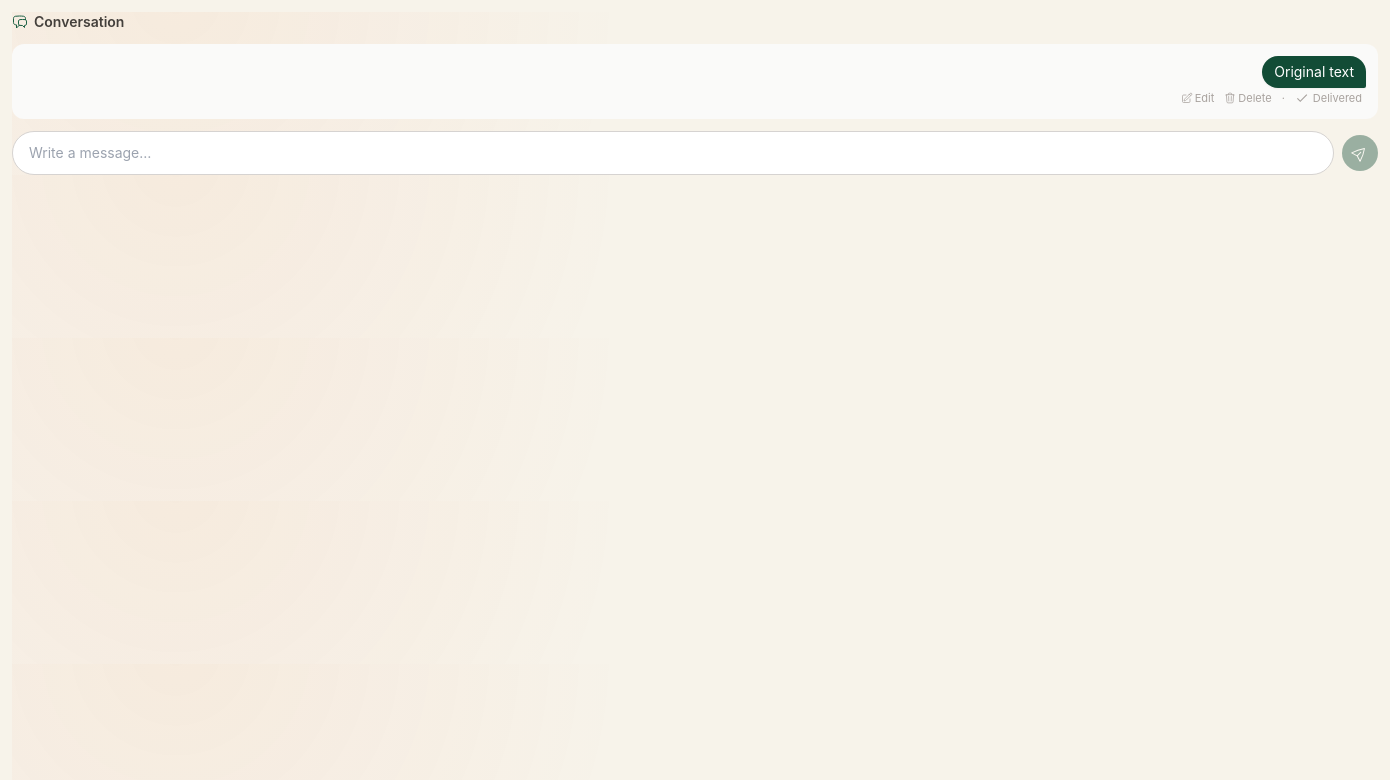
Scenario: BookingMessageThread › edits an own message inline and shows an "(edited)" marker afterward
Expected: the text "Original text" is shown, x1=1274 y1=62 x2=1354 y2=82
Click the button "Edit" at {"x": 1198, "y": 98}, box x1=1181 y1=90 x2=1214 y2=106
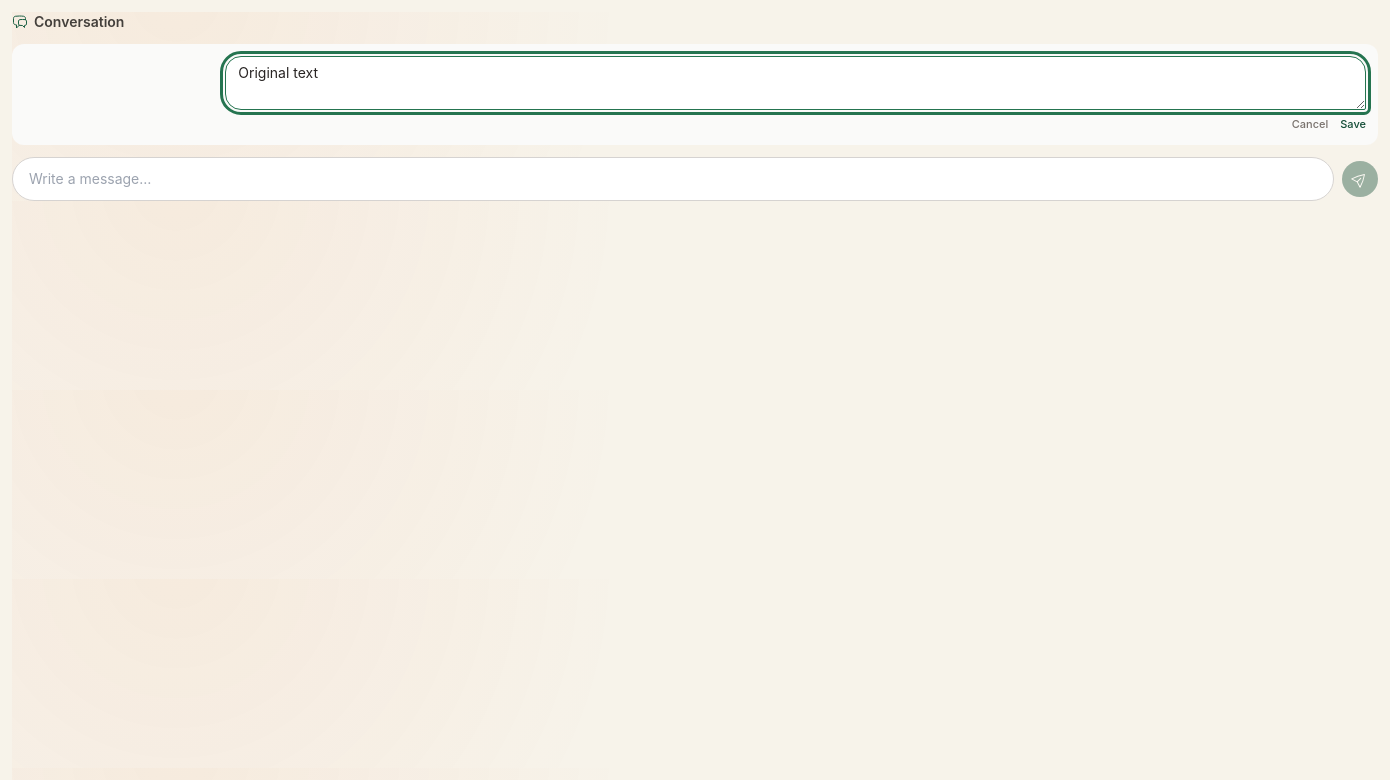
Replace the text in the text box showing "Original text" with "Corrected text" at {"x": 796, "y": 83}, box x1=225 y1=56 x2=1366 y2=110
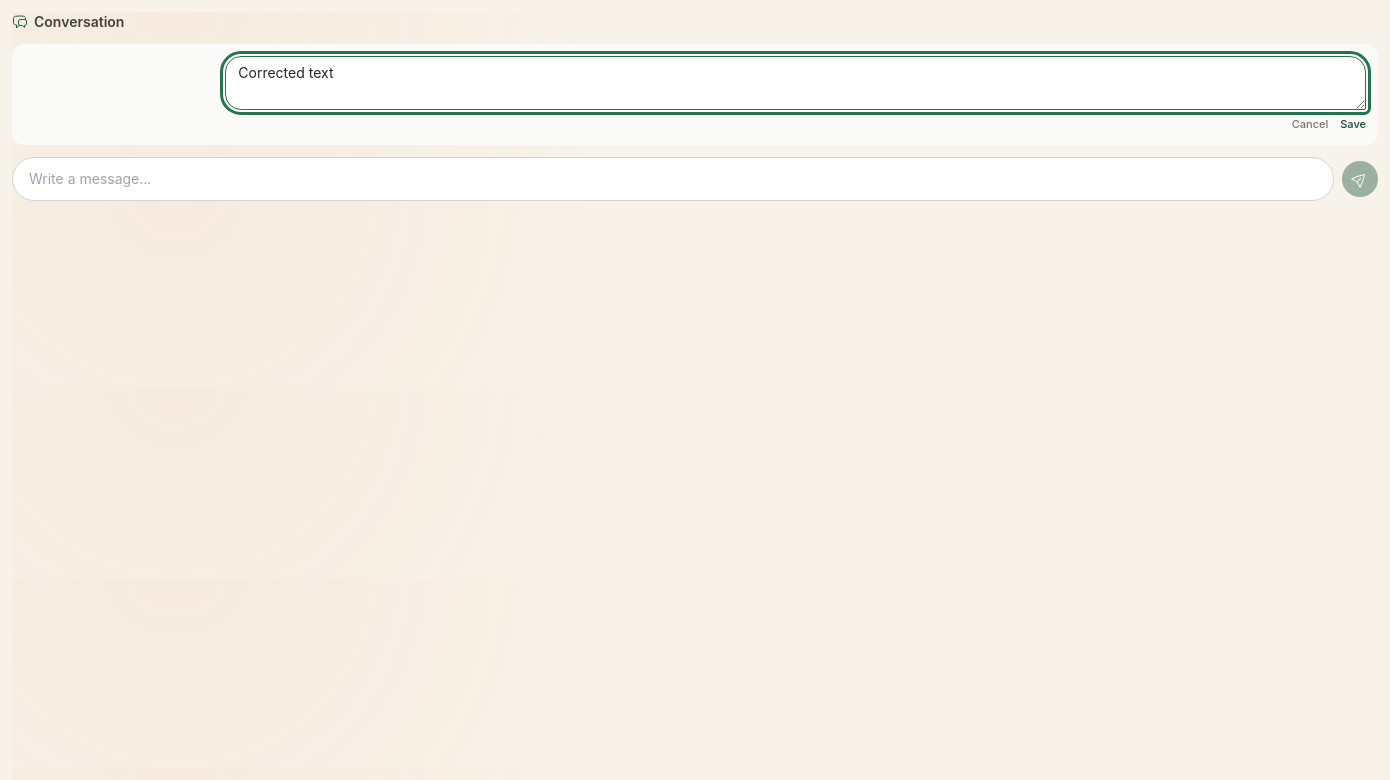
Click the button "Save" at {"x": 1353, "y": 124}, box x1=1340 y1=116 x2=1366 y2=132
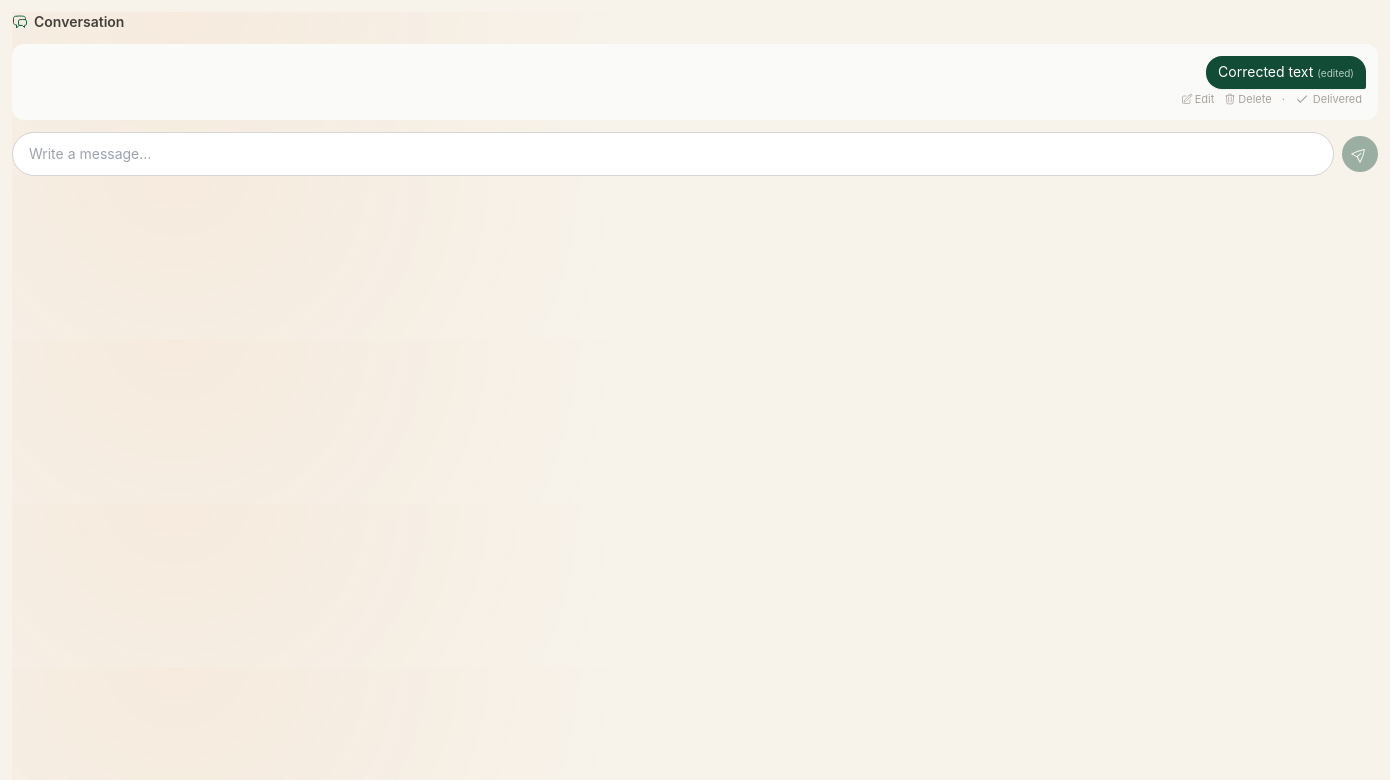
Expected: the text "Corrected text" is shown, x1=1218 y1=63 x2=1313 y2=80
Expected: the text "(edited)" is shown, x1=1317 y1=67 x2=1354 y2=79
